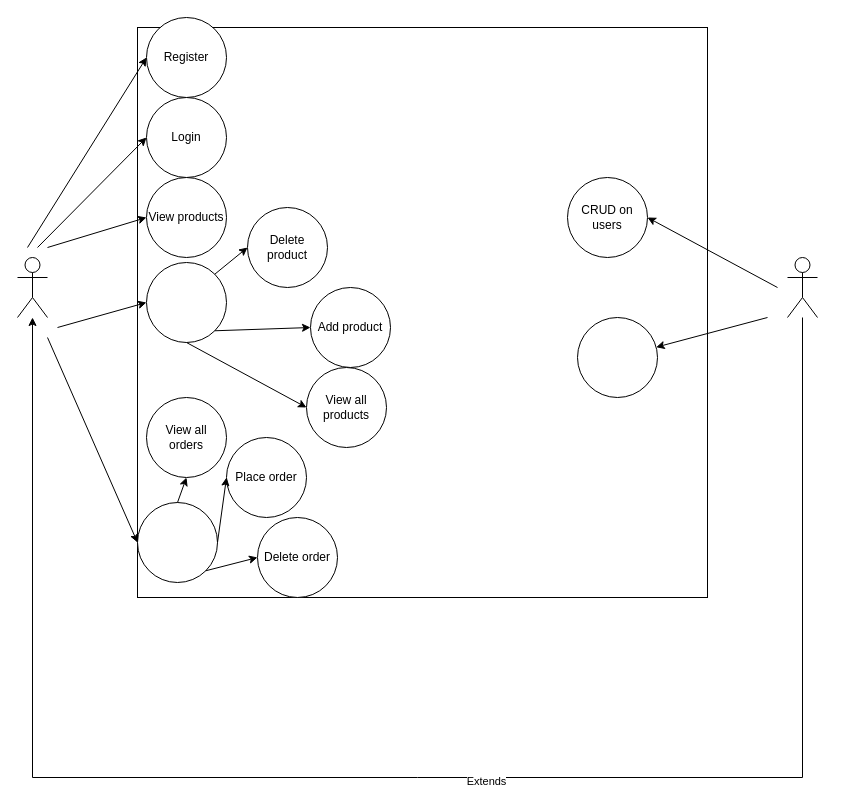
This 855x805 diagram has some shape labels left out. The shapes that lost their labels are listed below. From the top down, each one's centre as x and y in pixels, then its label:
[32,287]: Client
[186,302]: Cart
[802,287]: Administrator
[617,357]: Insert/delete products from shop
[177,542]: Orders
